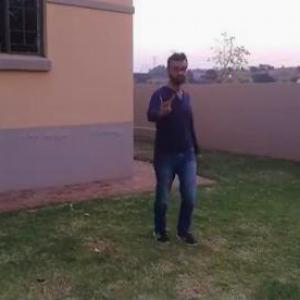takeoff-hand: (154, 87, 180, 120)
